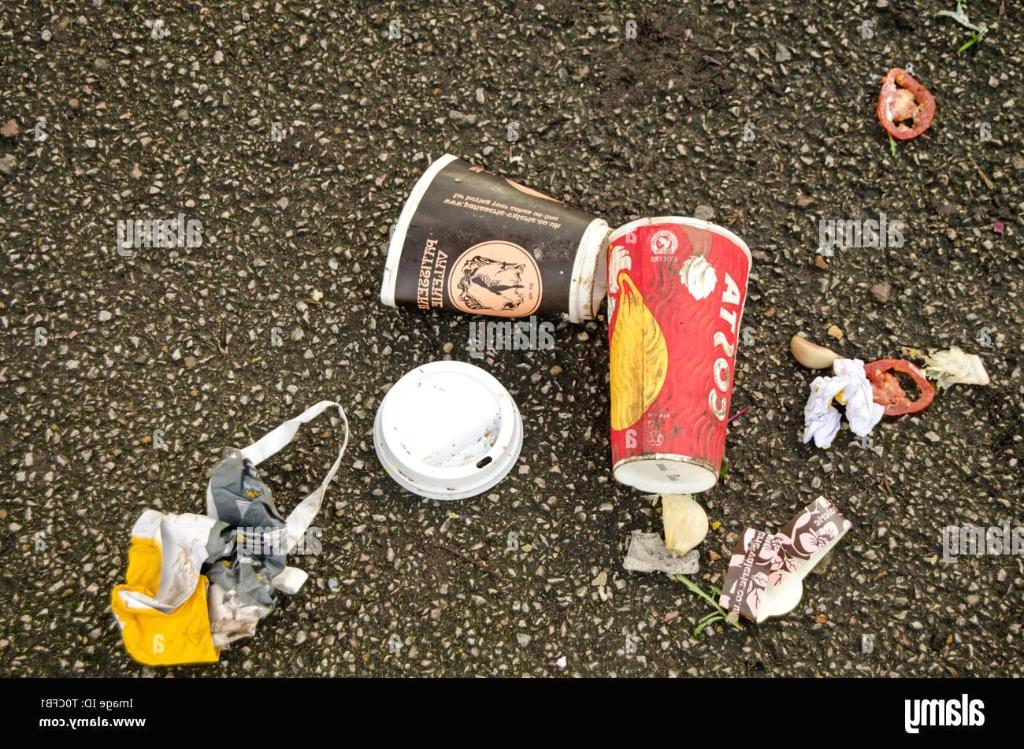garbage: (579, 190, 766, 517), (363, 196, 635, 324), (351, 352, 530, 517)
